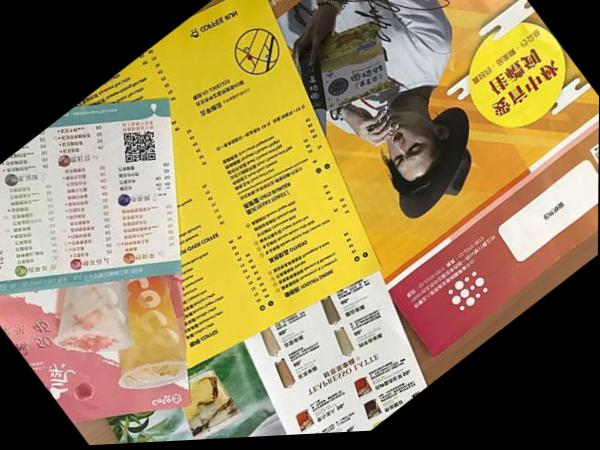paper: (0, 0, 425, 444), (222, 0, 597, 433), (0, 80, 219, 367), (0, 272, 239, 449), (246, 272, 426, 433)
